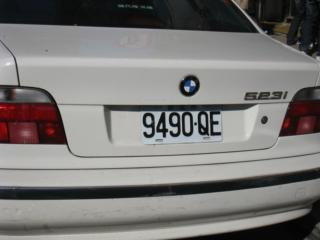plate: (140, 103, 224, 146)
